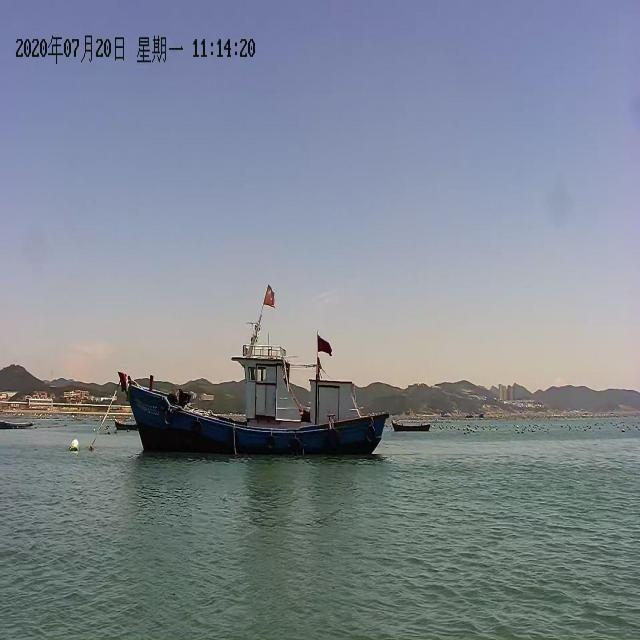ship2: (121, 290, 392, 456)
